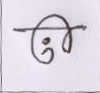i_matra: (48, 13, 75, 53)
